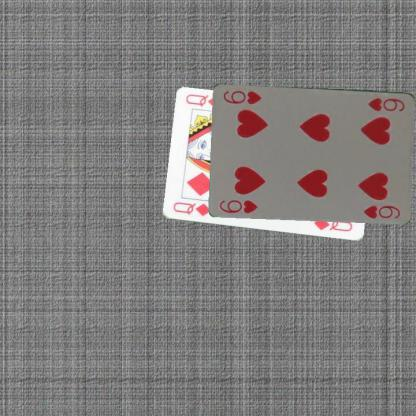6h: (216, 197, 260, 214), (366, 95, 406, 112)
Qd: (170, 199, 212, 218)
